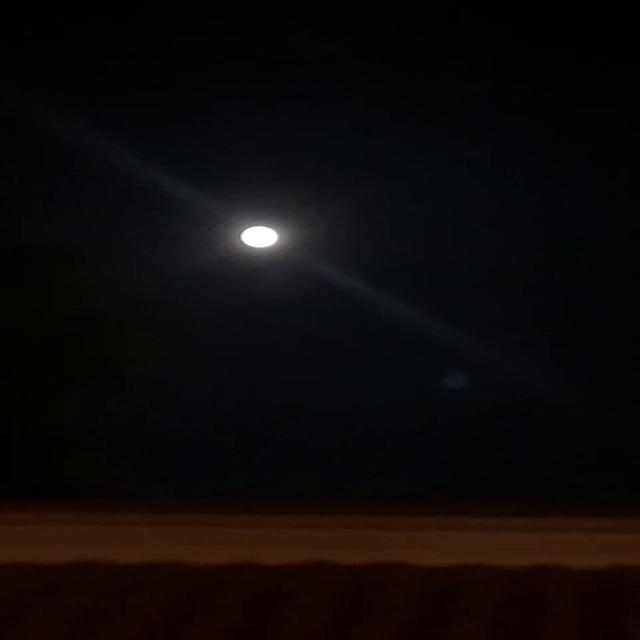moon: (230, 220, 282, 252)
